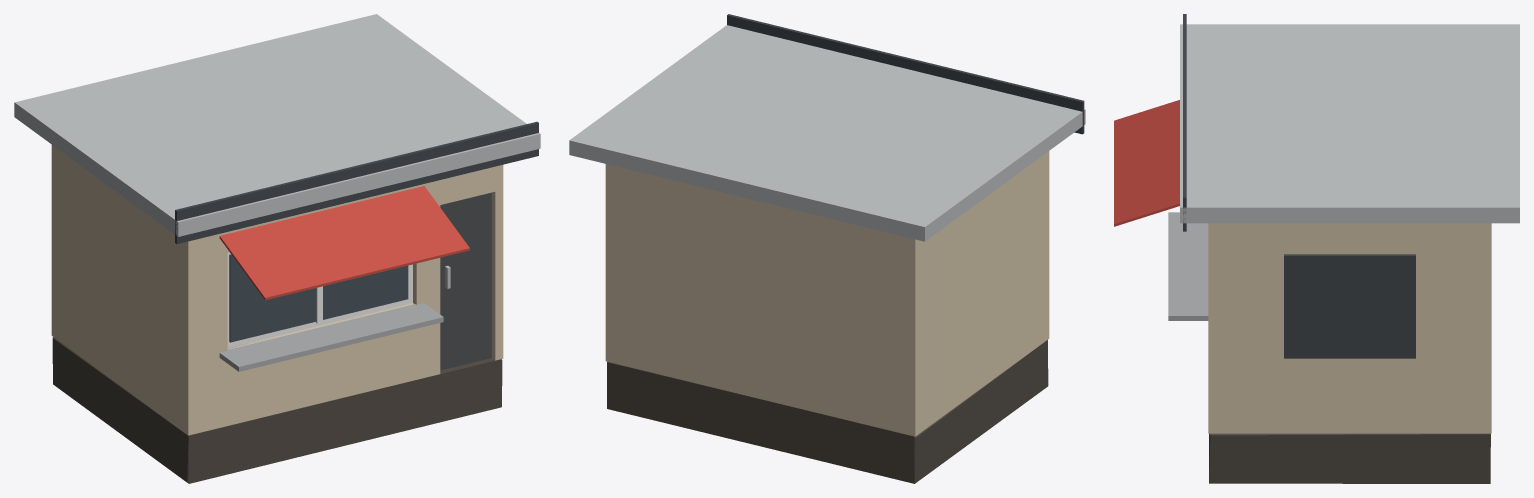
Rendered from kiosk-lod1.glb.
3 views of the same model, side by side, from view 1: azimuth 30°, elevation 25°; view 2: azimuth 150°, elevation 25°; view 3: azimuth 270°, elevation 25° (orthographic). The views are drawn at different scales.
Visible parts, largest first — view 1: kiosk-plaster0.001; view 2: kiosk-plaster0.001; view 3: kiosk-plaster0.001.
Boxes of the visible parts, <box> form: kiosk-plaster0.001: <box>14,14,540,483</box>; kiosk-plaster0.001: <box>569,14,1085,483</box>; kiosk-plaster0.001: <box>1114,14,1519,483</box>.
Size of the model in its own units: 4.6 by 3.49 by 4.3.
